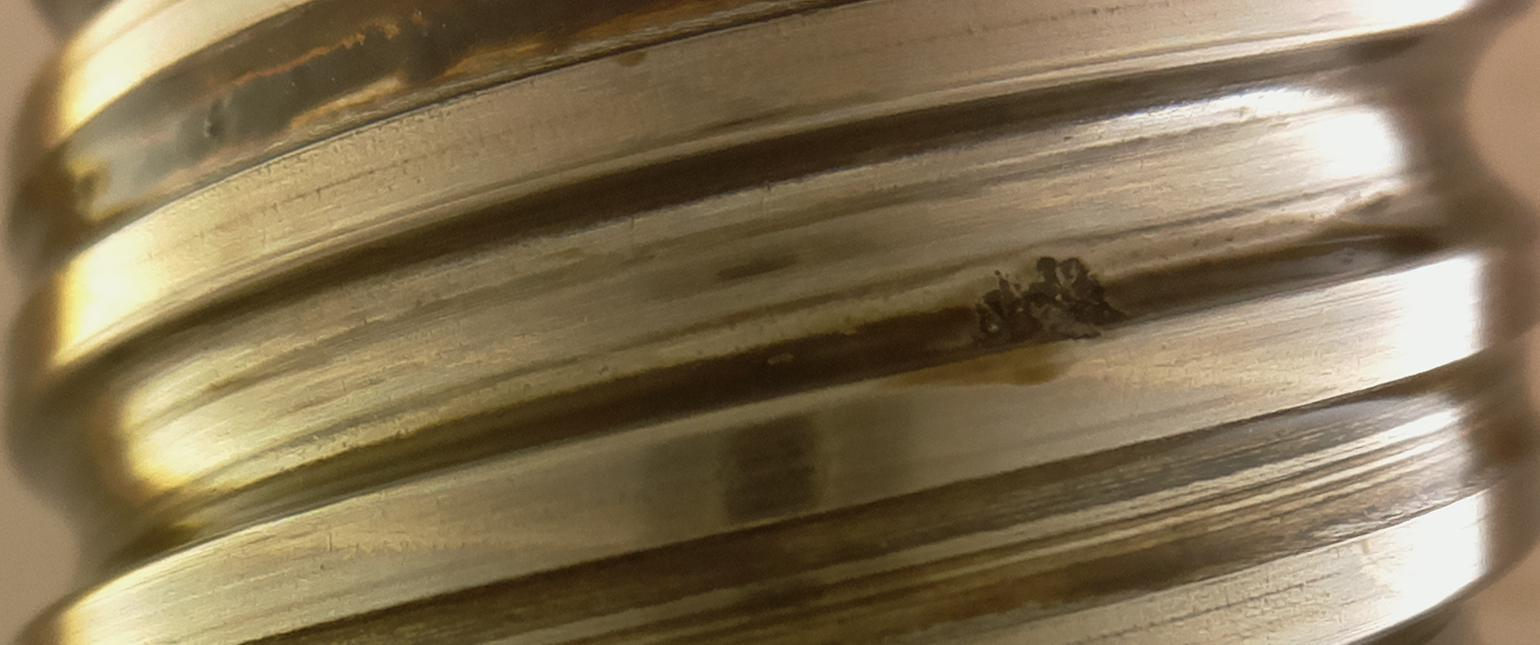pitting: (968, 256, 1131, 355)
